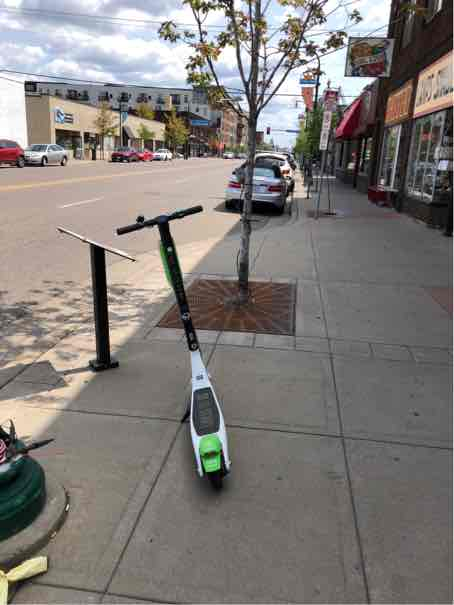scooter: (112, 199, 238, 492)
